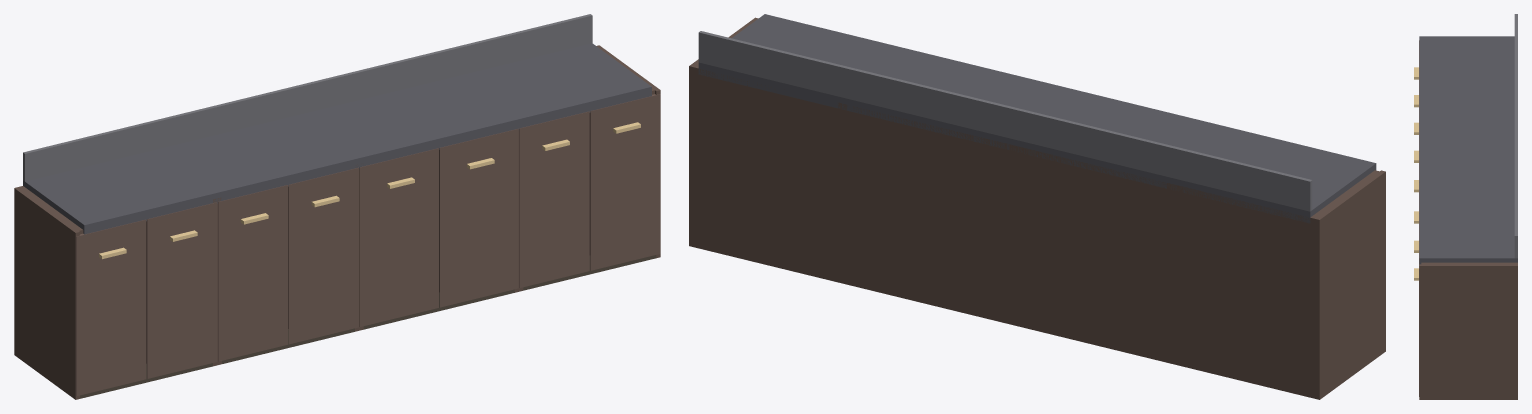
The picture shows the model from 3 angles, left to right: view 1: azimuth 30°, elevation 25°; view 2: azimuth 150°, elevation 25°; view 3: azimuth 270°, elevation 25°; orthographic projection. The views are drawn at different scales.
Visible parts, largest first — view 1: Countertop, Backsplash, Lower_Cabinet_Sink_Door_Right, Lower_Cabinet_Sink_Door_Left, Lower_Cabinet_4_Door_Right, Lower_Cabinet_1_Door_Right, Lower_Cabinet_1_Door_Left, Lower_Cabinet_2_Door_Left, Lower_Cabinet_4_Door_Left, Lower_Cabinet_2_Door_Right, Lower_Cabinet_1_Left_Side, Lower_Cabinet_Sink_Toe_Kick (+3 smaller); view 2: Lower_Cabinet_Sink_Back, Countertop, Lower_Cabinet_1_Back, Lower_Cabinet_2_Back, Lower_Cabinet_4_Back, Backsplash, Lower_Cabinet_1_Left_Side, Lower_Cabinet_Sink_Left_Side, Lower_Cabinet_4_Left_Side, Lower_Cabinet_Sink_Right_Side, Lower_Cabinet_2_Left_Side, Lower_Cabinet_4_Right_Side (+1 smaller); view 3: Countertop, Lower_Cabinet_4_Right_Side, Backsplash, Lower_Cabinet_4_Back, Lower_Cabinet_4_Top, Lower_Cabinet_4_Door_Right.
Boxes of the visible parts, x1,y1,x2,y2 form: Countertop: (23, 43, 651, 234); Backsplash: (23, 14, 592, 181); Lower_Cabinet_Sink_Door_Right: (439, 128, 518, 307); Lower_Cabinet_Sink_Door_Left: (359, 148, 438, 326); Lower_Cabinet_4_Door_Right: (589, 94, 660, 270); Lower_Cabinet_1_Door_Right: (146, 202, 217, 378); Lower_Cabinet_1_Door_Left: (76, 219, 146, 396); Lower_Cabinet_2_Door_Left: (218, 185, 288, 361); Lower_Cabinet_4_Door_Left: (519, 111, 589, 287); Lower_Cabinet_2_Door_Right: (288, 167, 358, 344); Lower_Cabinet_1_Left_Side: (14, 187, 79, 399); Lower_Cabinet_Sink_Toe_Kick: (363, 289, 514, 329); Lower_Cabinet_Sink_Back: (842, 105, 1013, 323); Countertop: (698, 14, 1376, 223); Lower_Cabinet_1_Back: (1167, 183, 1321, 399); Lower_Cabinet_2_Back: (1014, 145, 1166, 362); Lower_Cabinet_4_Back: (689, 65, 841, 282); Backsplash: (698, 31, 1312, 211); Lower_Cabinet_1_Left_Side: (1315, 170, 1385, 399); Lower_Cabinet_Sink_Left_Side: (1009, 144, 1013, 325); Lower_Cabinet_4_Left_Side: (837, 102, 841, 283); Lower_Cabinet_Sink_Right_Side: (842, 104, 846, 284); Lower_Cabinet_2_Left_Side: (1162, 182, 1166, 361); Lower_Cabinet_4_Right_Side: (689, 17, 758, 246); Countertop: (1419, 36, 1517, 264); Lower_Cabinet_4_Right_Side: (1419, 264, 1517, 399); Backsplash: (1514, 14, 1517, 258); Lower_Cabinet_4_Back: (1513, 262, 1517, 399); Lower_Cabinet_4_Top: (1421, 262, 1515, 264); Lower_Cabinet_4_Door_Right: (1419, 242, 1419, 396).
Bounding box in the file's own units: 3.3 × 1.08 × 0.6325.
